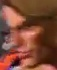kevin: (0, 2, 50, 69)
